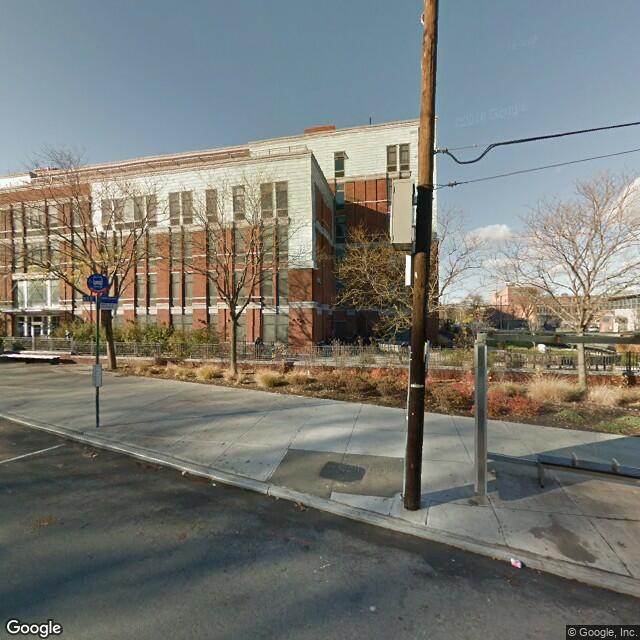litter: (177, 464, 222, 491), (493, 551, 536, 570)
